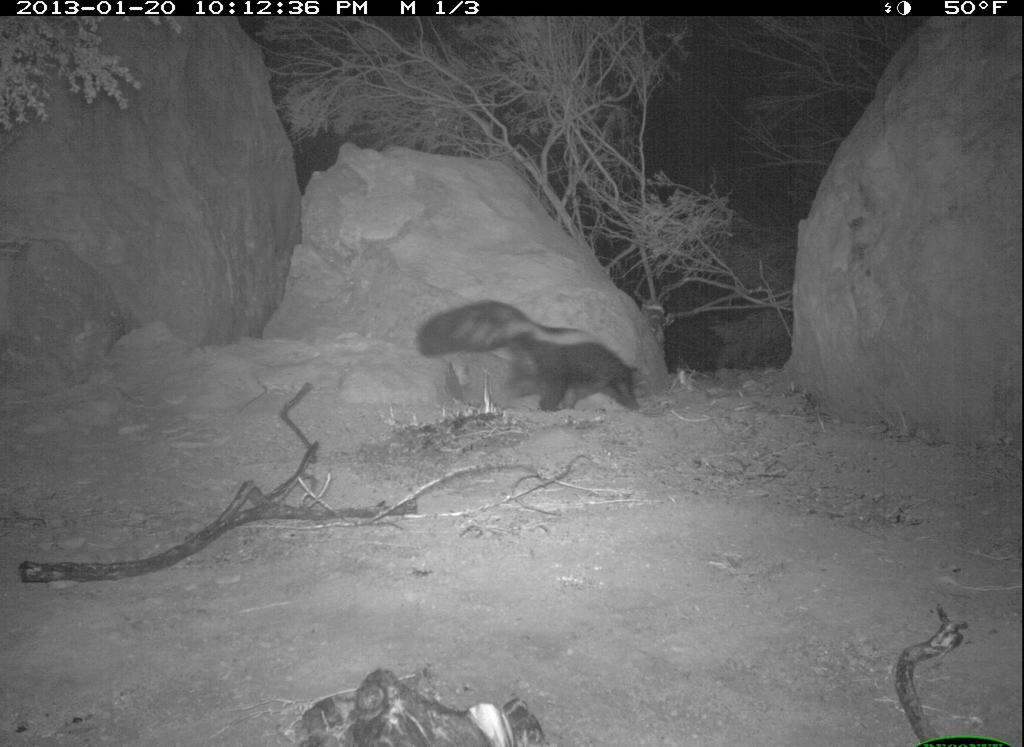skunk: (406, 291, 653, 438)
